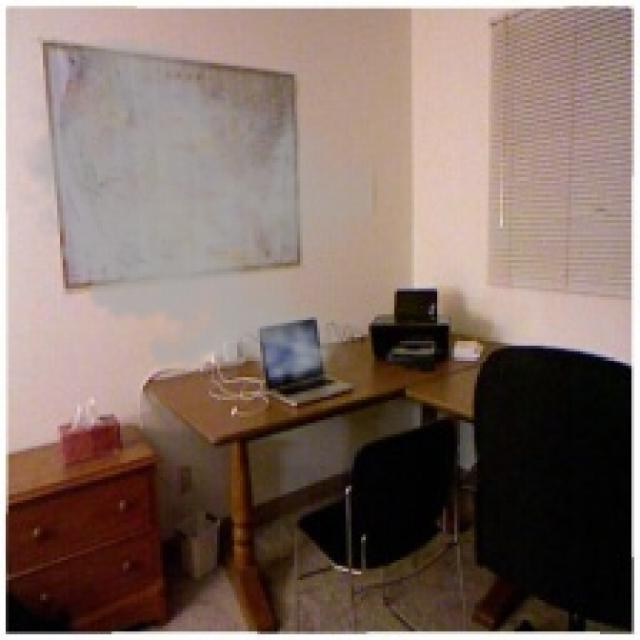Smoke: (9, 29, 378, 392)
